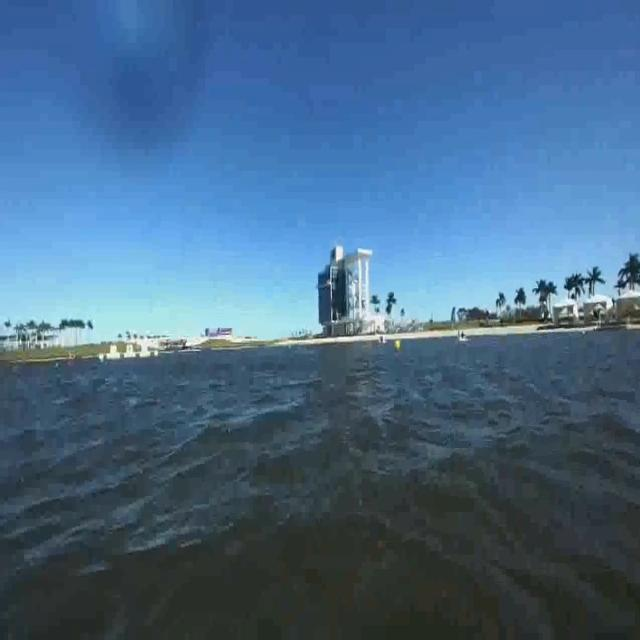yellow-buoy: (394, 339, 402, 353)
